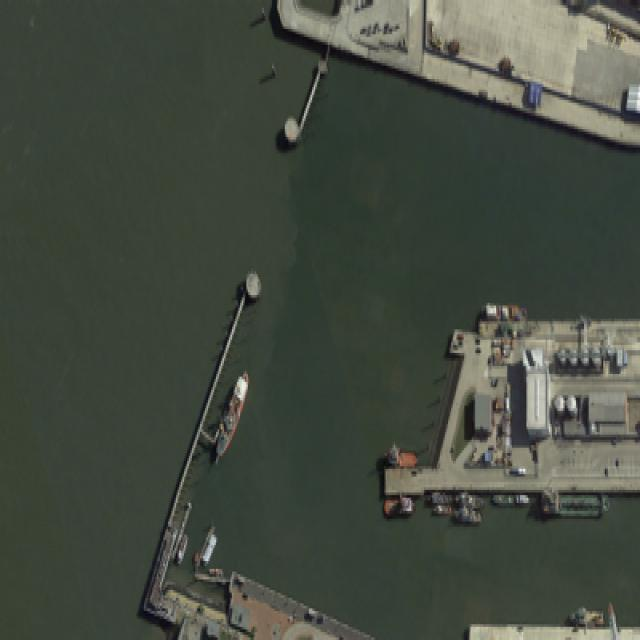boat: (213, 366, 248, 461), (539, 482, 611, 516), (379, 440, 418, 466), (478, 298, 526, 318), (381, 490, 416, 516), (491, 487, 530, 506), (570, 603, 604, 624), (453, 484, 485, 506), (200, 530, 216, 564), (453, 506, 483, 522), (426, 487, 451, 503), (176, 529, 187, 561), (432, 501, 451, 514), (208, 564, 222, 574), (192, 546, 198, 558)
